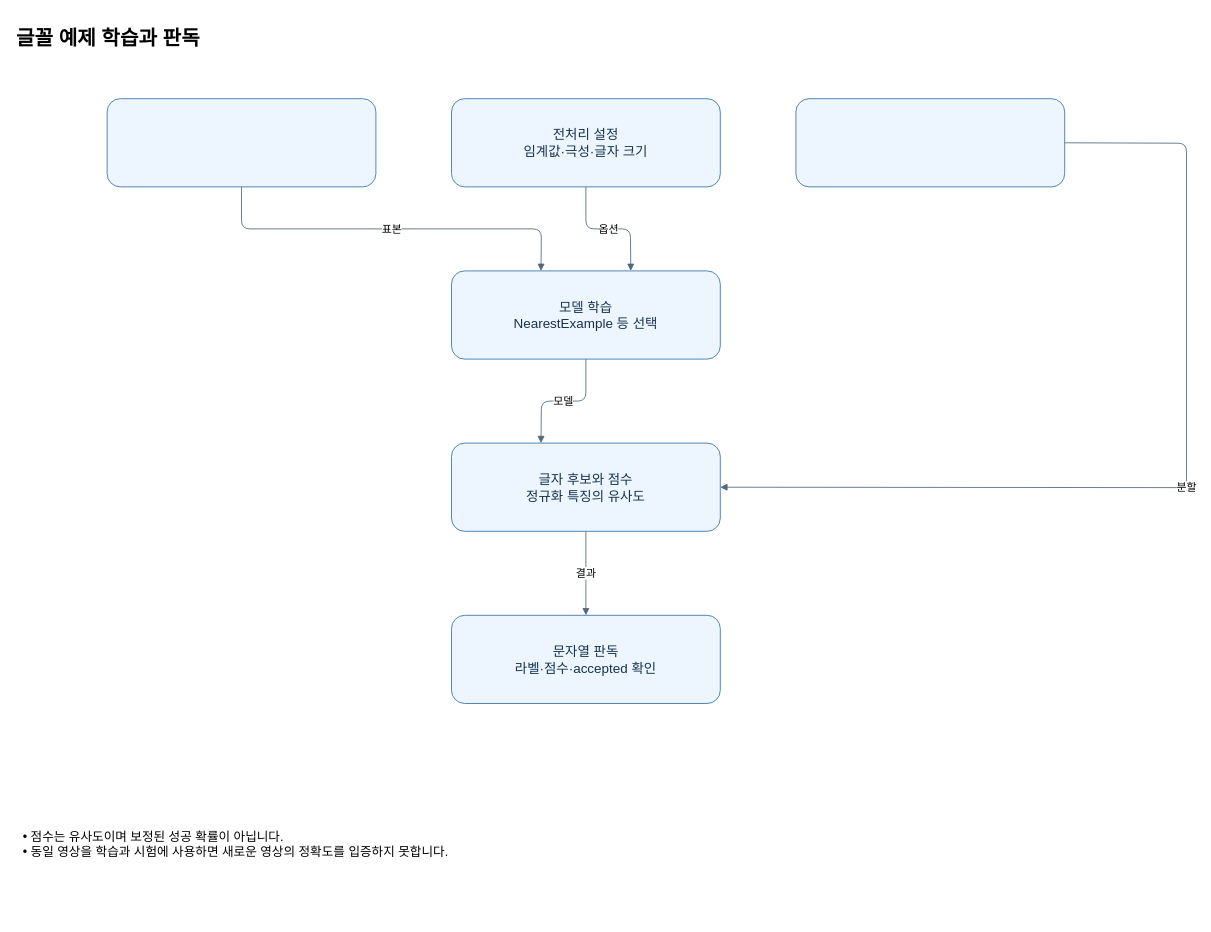
This 1211x932 diagram has some shape labels left out. The centre of each missing label's shape, as x and y in pixels:
"판독 영상 같은 조건과 후보 문자 사용" goes at point 930,142.
"학습 표본 문자 라벨과 영상 내 셀" goes at point 241,142.
